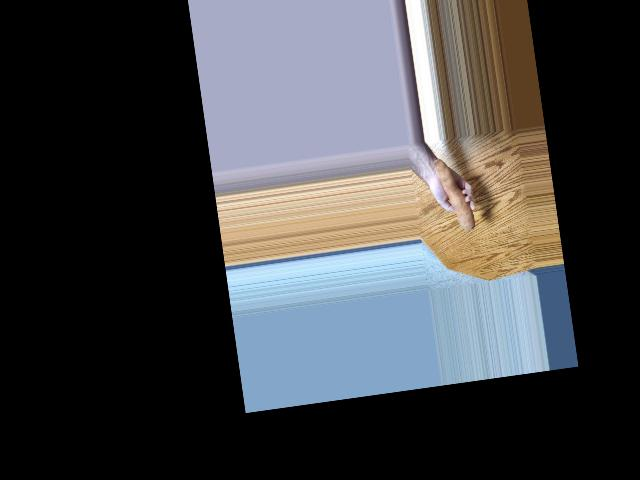sweet_potato: (439, 163, 481, 245)
